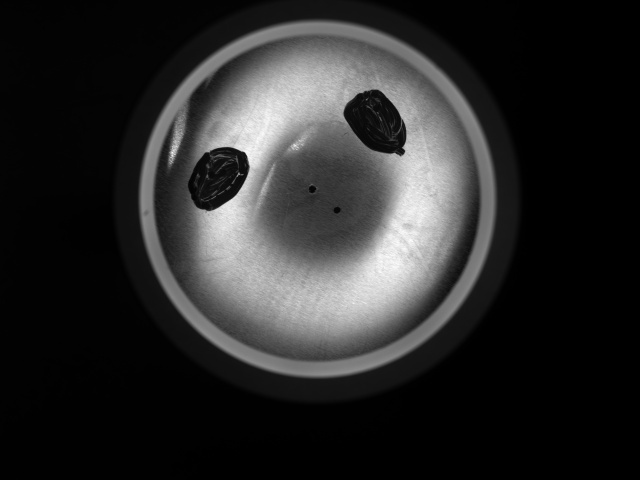zang_wu: (342, 89, 411, 159), (186, 146, 251, 212)
zhen_kong: (306, 178, 319, 195), (331, 204, 343, 219)
